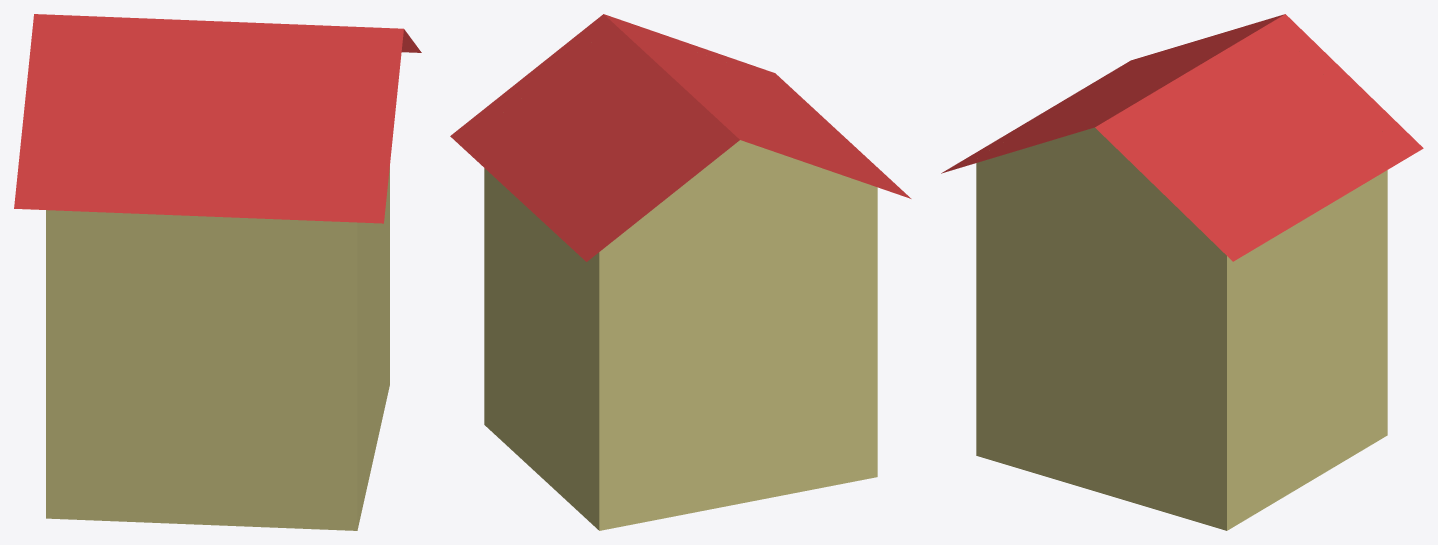
The picture shows the model from 3 angles, left to right: view 1: azimuth 30°, elevation 25°; view 2: azimuth 150°, elevation 25°; view 3: azimuth 270°, elevation 25°; orthographic projection. The views are drawn at different scales.
Bounding box in the file's own units: 13.72 × 13.92 × 11.99.
